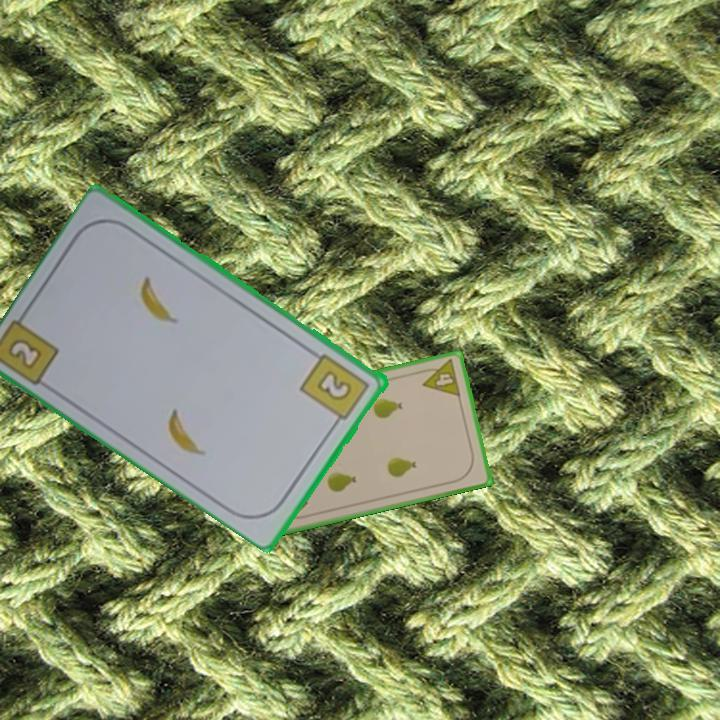2b: (297, 350, 373, 429), (8, 338, 42, 369)
4p: (416, 356, 463, 400)
